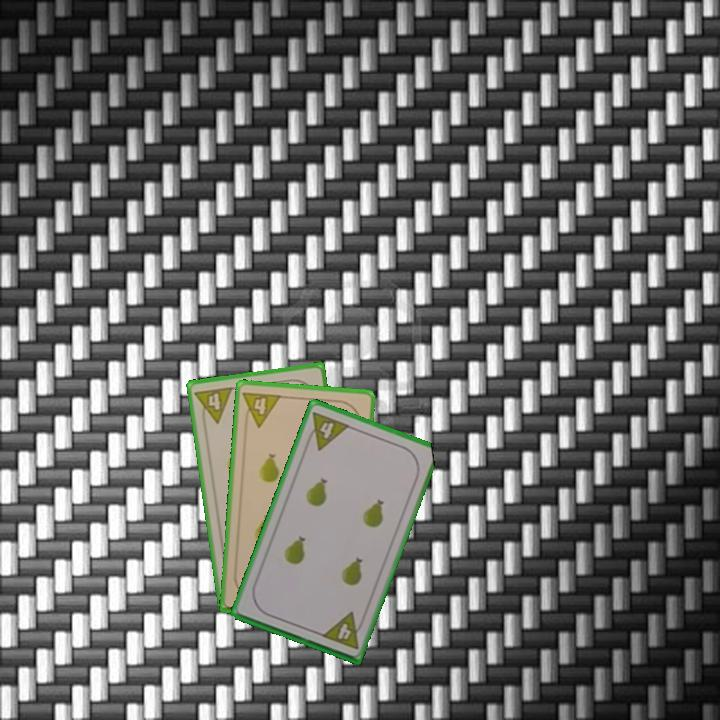4p: (302, 408, 352, 453), (318, 608, 368, 652), (191, 383, 236, 428), (239, 388, 284, 430)
